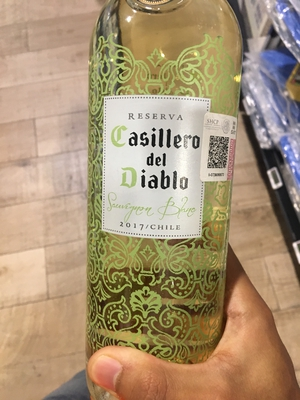casillero del diablo sauvignon blanc: (77, 3, 253, 380)
